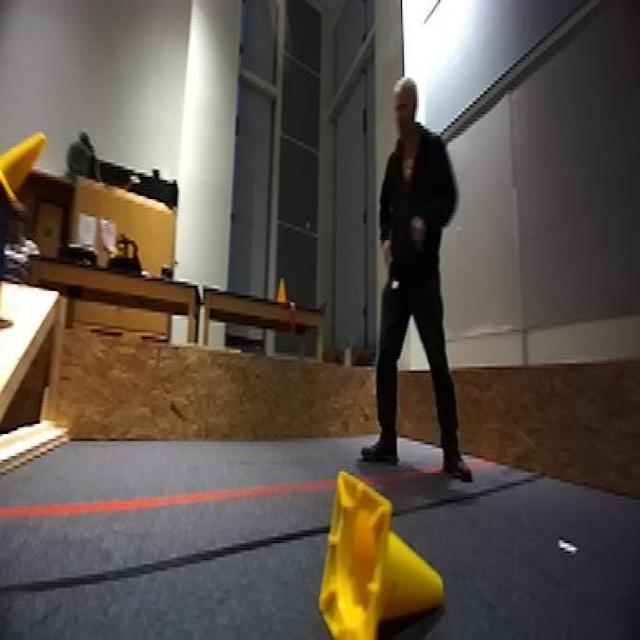frc_cone: (317, 470, 449, 640), (0, 123, 46, 199)
